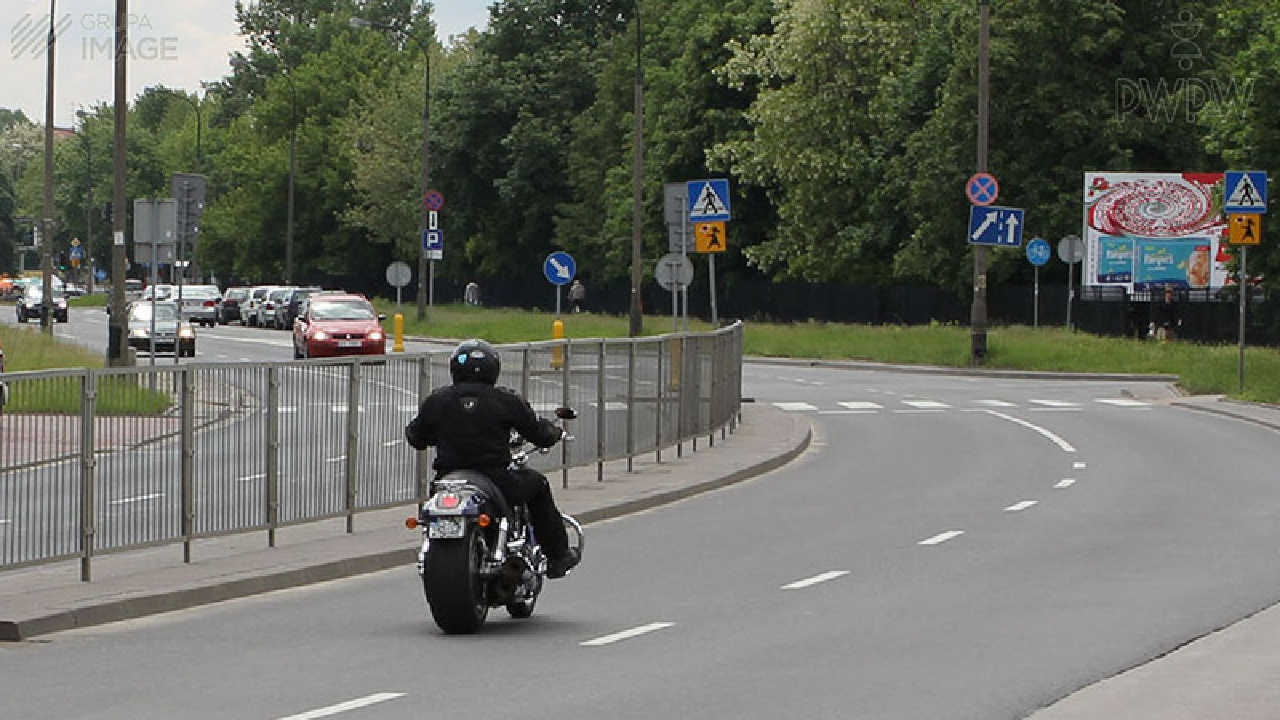B36: (966, 173, 999, 205)
C9: (544, 251, 576, 284)
D18: (423, 229, 442, 249)
D6: (1224, 171, 1267, 213), (688, 180, 730, 221)
